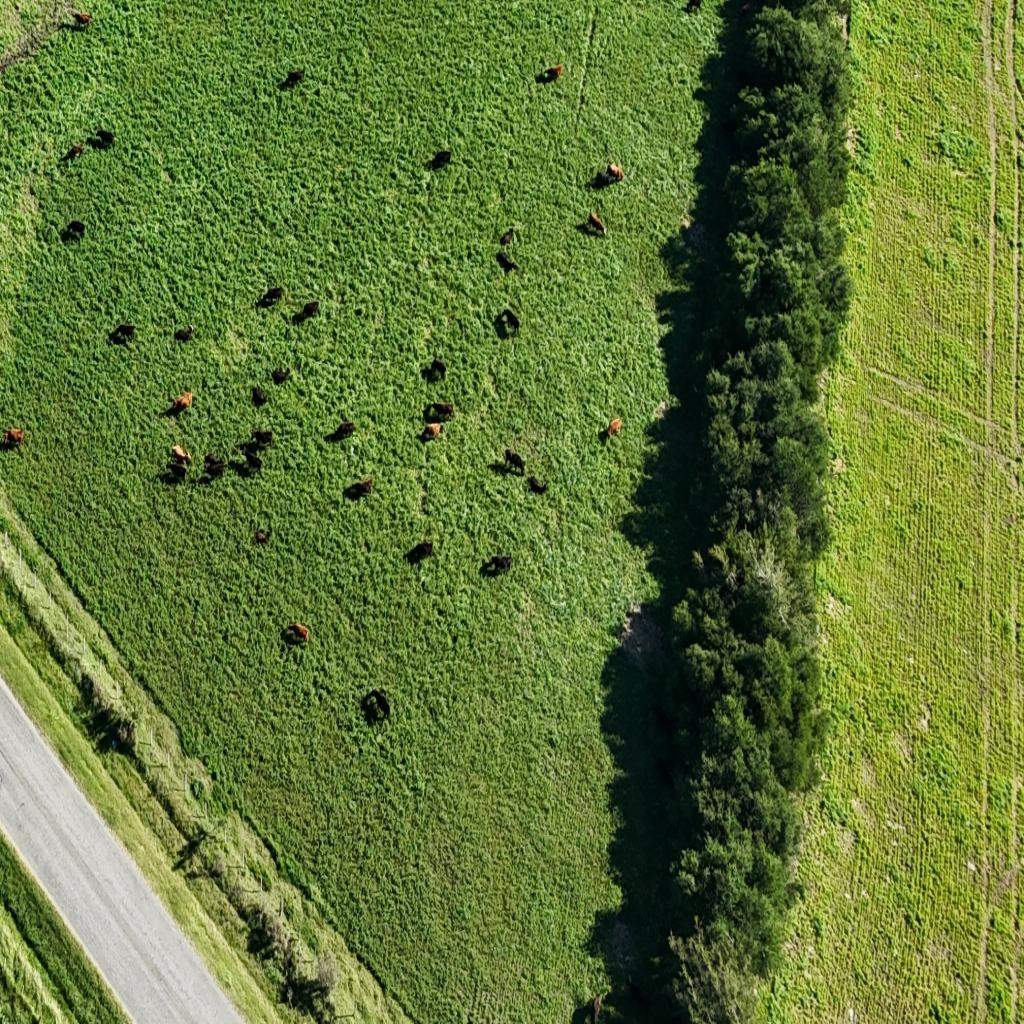cow: (361, 689, 389, 724), (495, 308, 520, 336), (482, 554, 512, 576), (406, 540, 433, 564), (282, 622, 309, 646), (62, 10, 90, 31), (327, 421, 356, 441), (60, 142, 86, 164), (170, 444, 192, 470), (61, 221, 86, 243), (109, 324, 135, 345), (504, 449, 525, 475), (496, 250, 518, 274), (91, 128, 115, 150), (257, 287, 283, 307), (428, 400, 454, 420), (348, 477, 374, 497), (204, 456, 225, 480), (628, 976, 646, 1004), (424, 358, 446, 380), (429, 148, 451, 170), (3, 426, 25, 448), (296, 300, 320, 320), (242, 448, 262, 472), (251, 428, 274, 448), (281, 69, 304, 89), (588, 211, 606, 236), (172, 391, 193, 412), (606, 160, 624, 184), (605, 416, 623, 440), (420, 424, 442, 443), (593, 168, 612, 188), (528, 476, 548, 494), (271, 366, 290, 384), (174, 325, 194, 342), (252, 385, 268, 406), (544, 64, 563, 80), (592, 995, 602, 1024), (254, 528, 270, 545), (685, 0, 704, 14), (500, 229, 514, 245), (599, 427, 608, 442)
